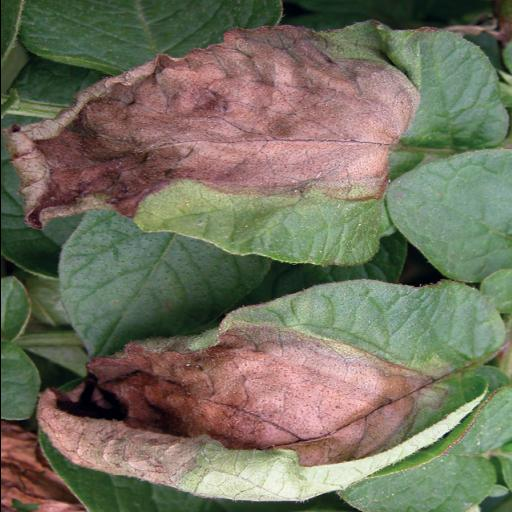Late Blight: (6, 21, 512, 269), (28, 280, 511, 506)
